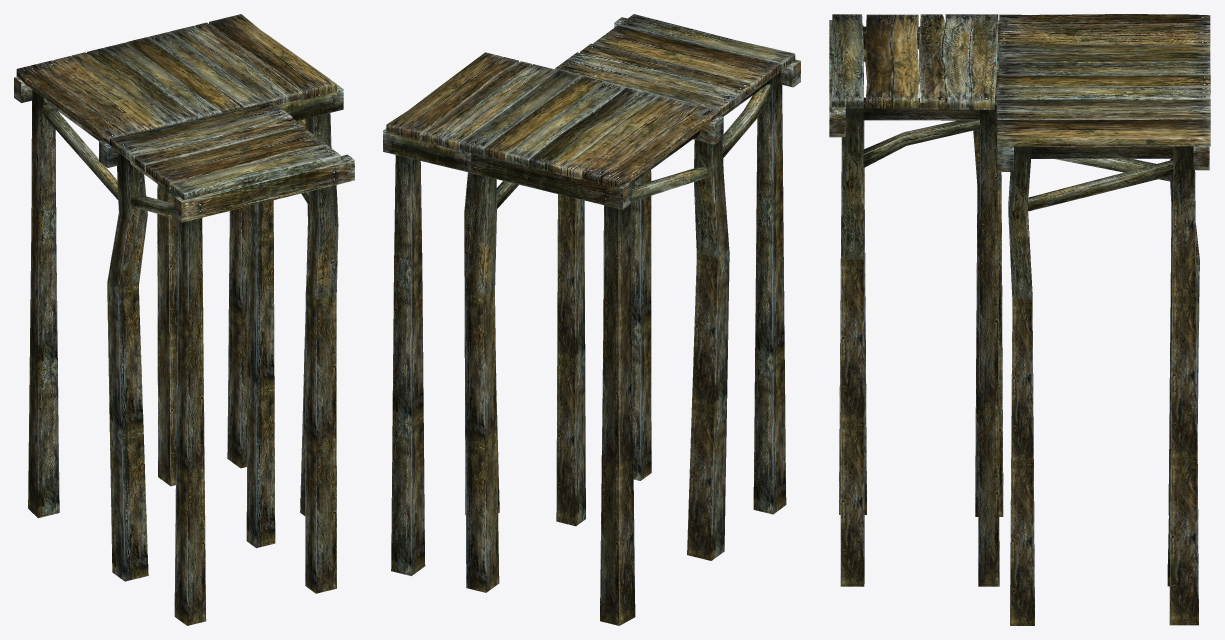
File: most_6.glb
The picture shows the model from 3 angles, left to right: view 1: azimuth 30°, elevation 25°; view 2: azimuth 150°, elevation 25°; view 3: azimuth 270°, elevation 25°; orthographic projection. The views are drawn at different scales.
Parts seen in each view (by area): view 1: most_6; view 2: most_6; view 3: most_6.
Part boxes in pixels (box(x1,y1,x2,y2)): most_6: box(14, 14, 354, 625); most_6: box(383, 14, 800, 625); most_6: box(829, 14, 1210, 625).
Size of the model in its own units: 6.84 by 12.03 by 8.52.
Materials: 5 (5 with a texture image).
